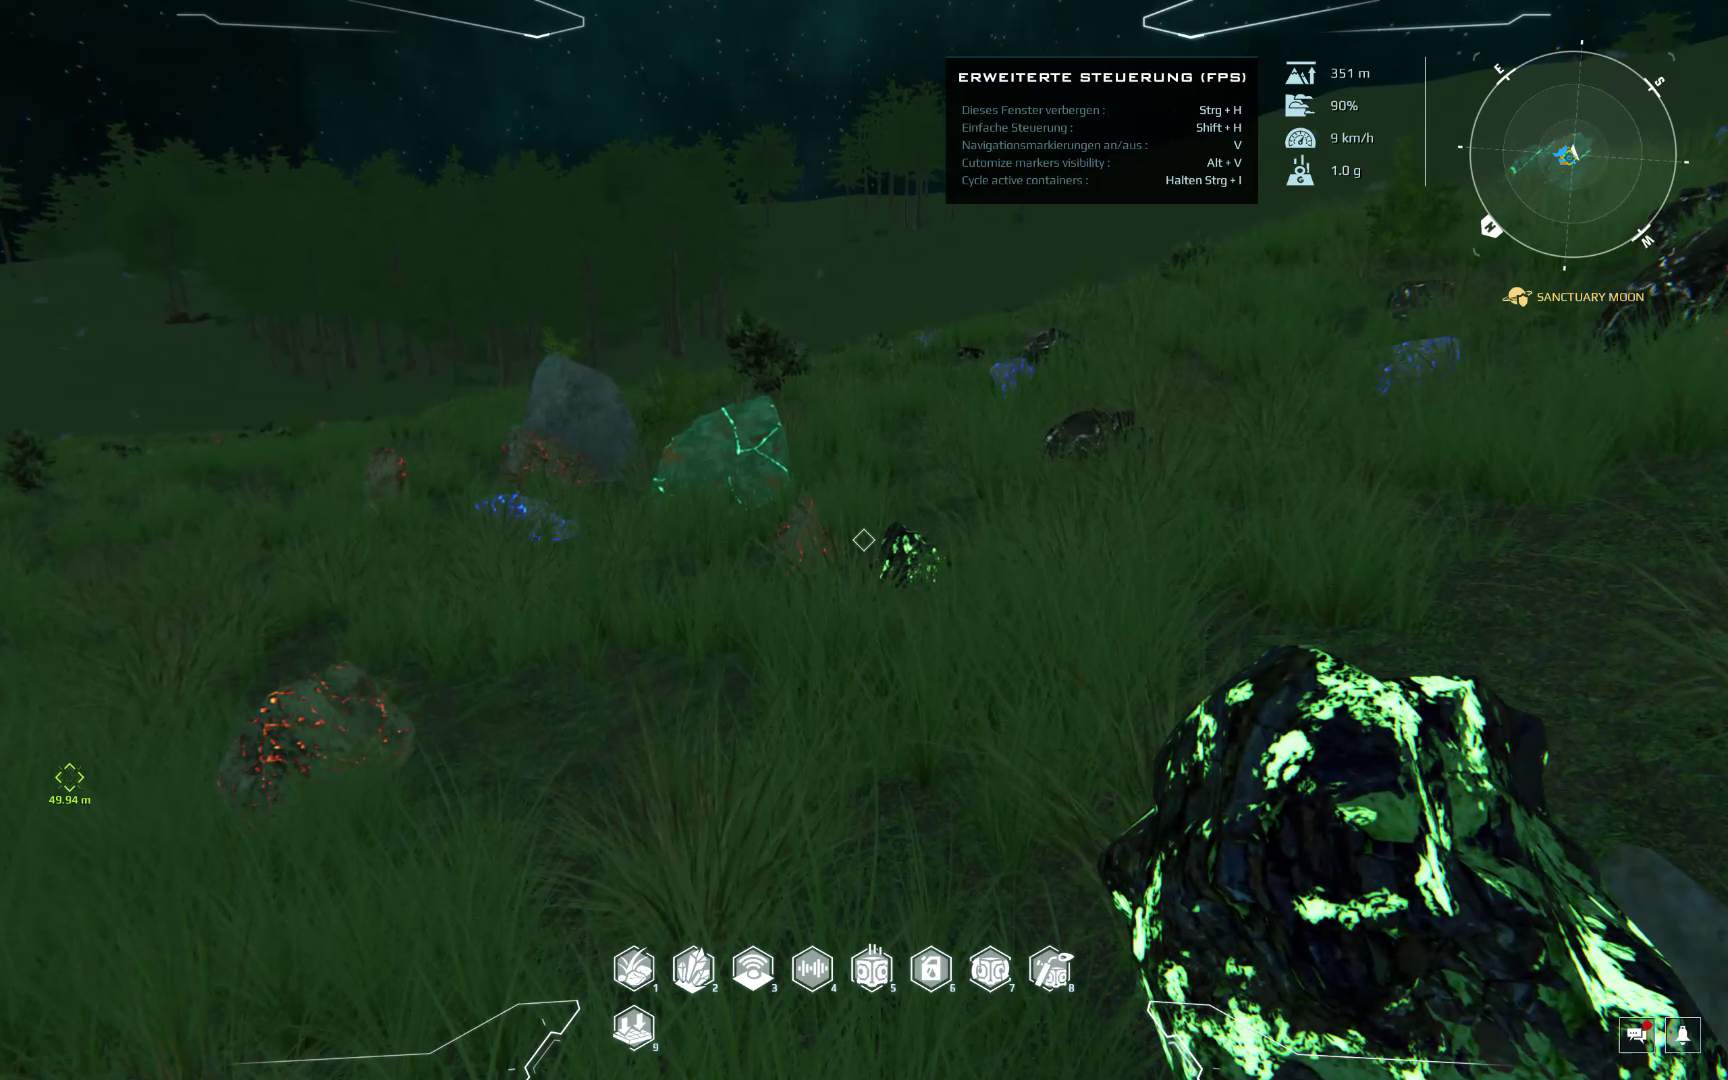Ore: (1097, 645, 1727, 1080), (213, 657, 417, 811), (647, 393, 797, 528), (1599, 223, 1728, 353), (494, 427, 597, 496), (476, 490, 588, 547), (862, 518, 950, 590), (769, 494, 841, 576), (1363, 333, 1461, 394), (1045, 402, 1140, 464), (352, 437, 422, 515), (1643, 187, 1728, 235), (1381, 271, 1462, 321), (987, 358, 1039, 402), (1023, 325, 1081, 363), (944, 342, 998, 367)
